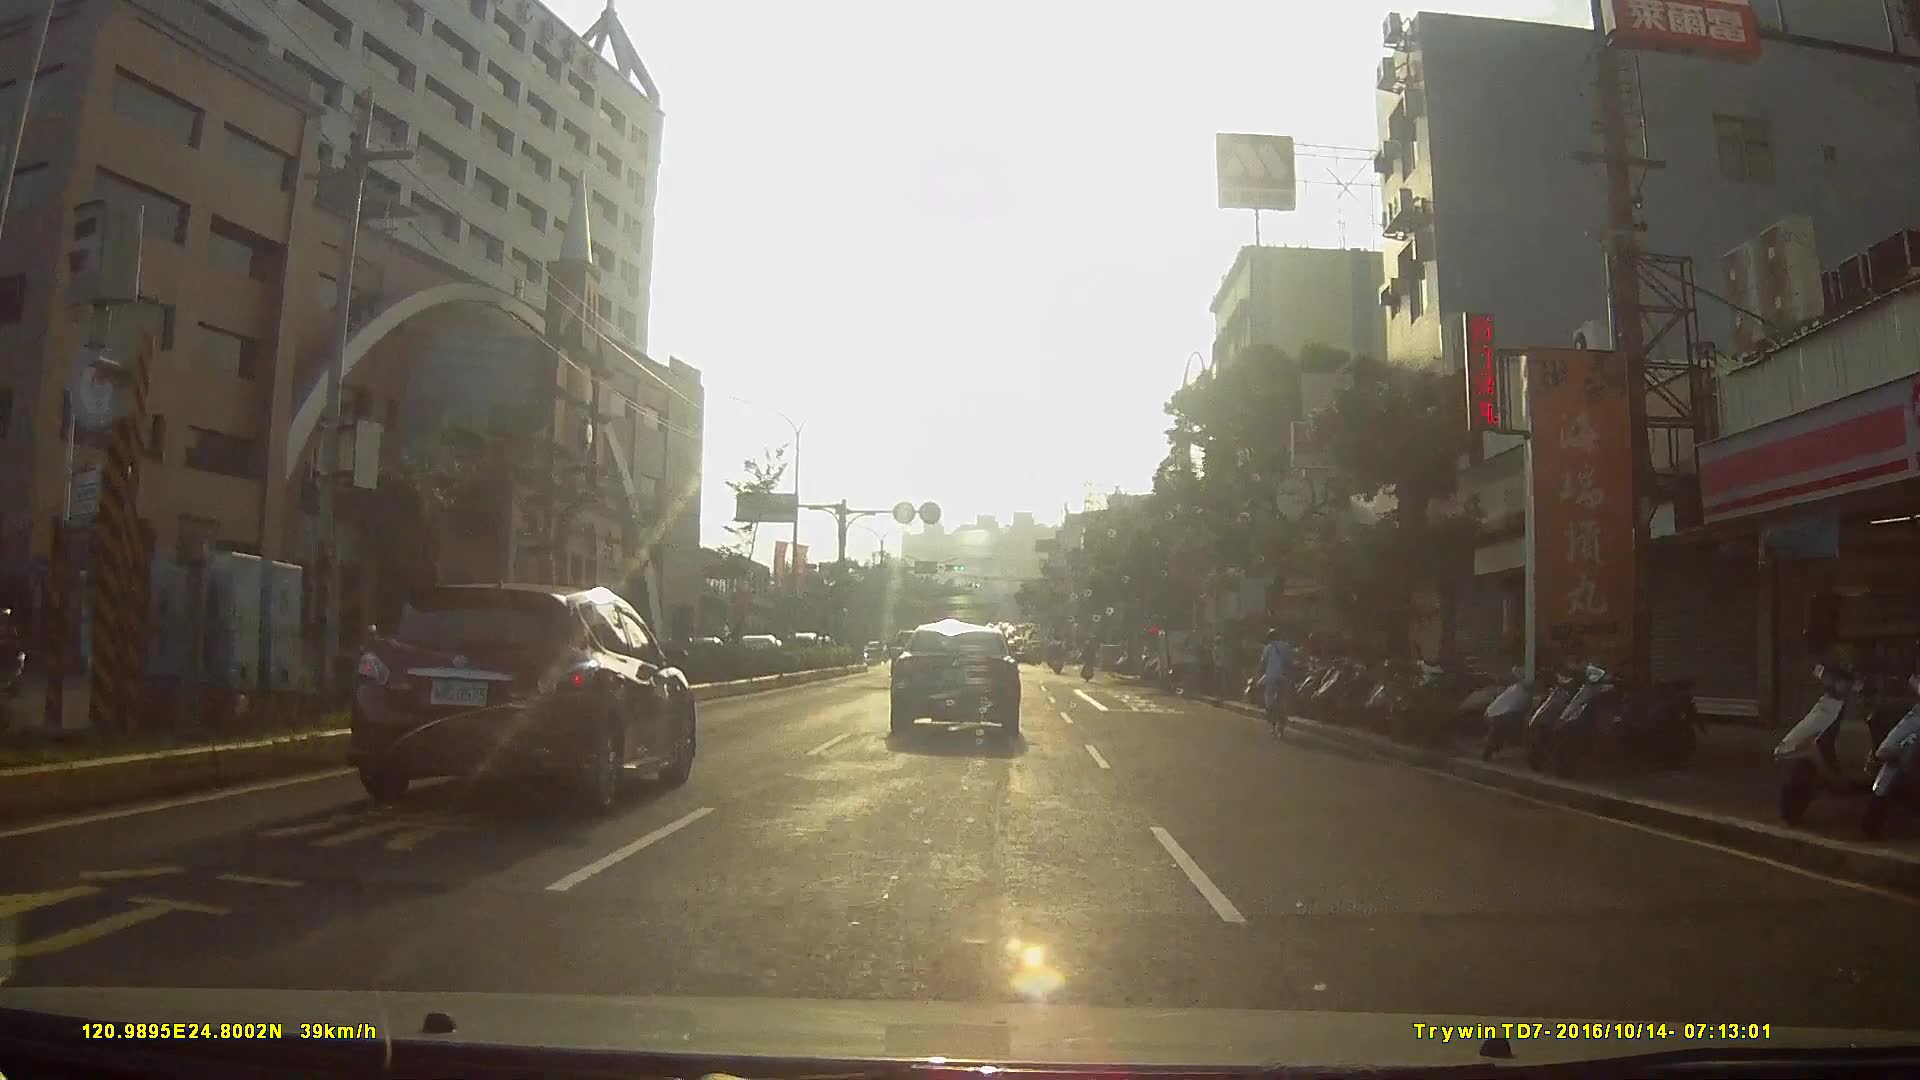rider: (1256, 625, 1299, 738)
vehicle: (346, 576, 711, 815), (885, 614, 1036, 747), (1154, 622, 1222, 689), (763, 607, 822, 662)
